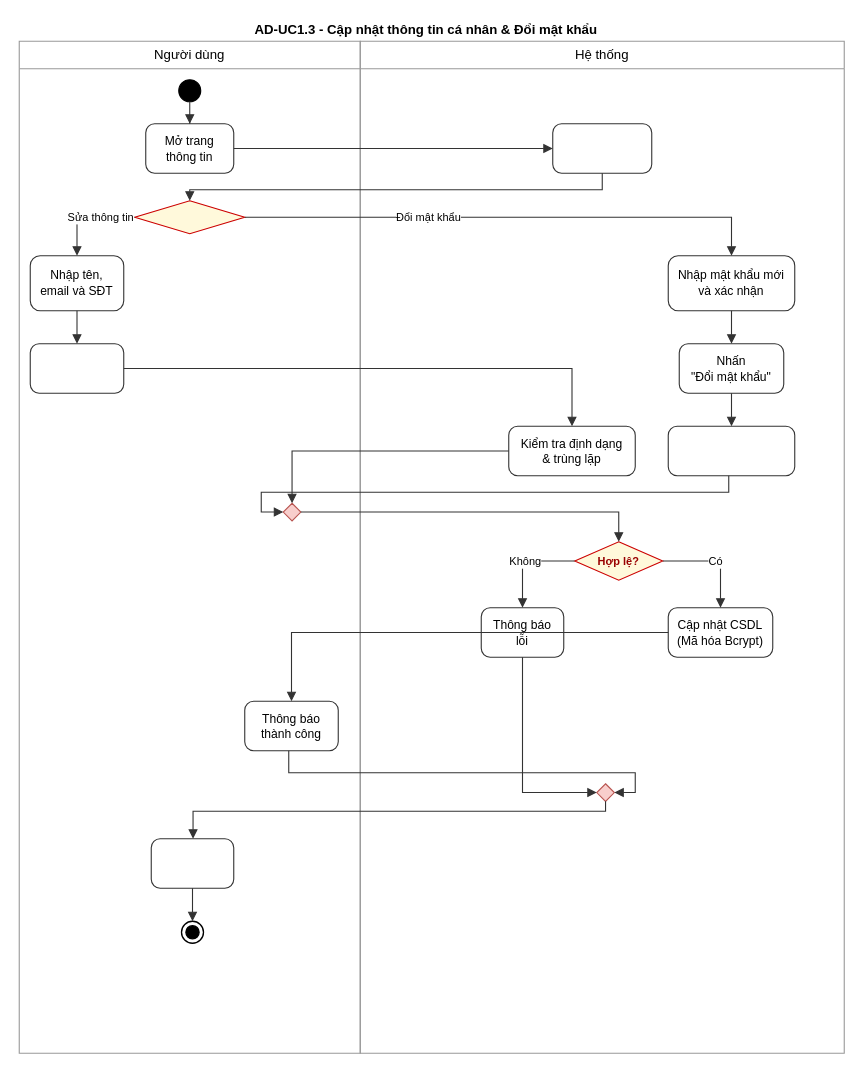
The diagram is 864 pixels wide and 1073 high, and some of its shapes have lost their labels. The centre of each missing label's shape, as x and y in pixels:
Hiển thị form cập nhật: the point at 602,148
Kiểm tra độ dài & khớp mật khẩu: the point at 731,450
Kết thúc cập nhật: the point at 192,863
Nhấn "Lưu thay đổi": the point at 76,368
Thao tác?: the point at 189,217
